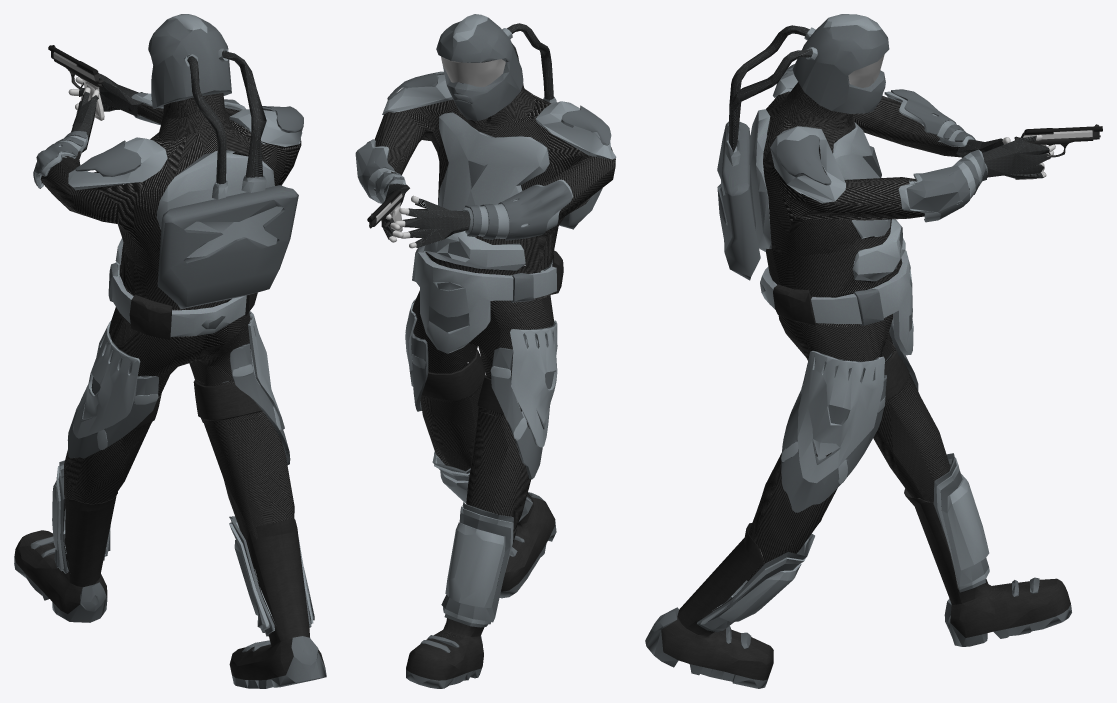
3 views of the same model, side by side, from view 1: azimuth 30°, elevation 25°; view 2: azimuth 150°, elevation 25°; view 3: azimuth 270°, elevation 25° (orthographic). The views are drawn at different scales.
Visible parts, largest first — view 1: personajeskefix:personaje:extrudedSurface2 polySurface72, personajeskefix:personaje:bota1 polySurface72, personajeskefix:personaje:PANTALON polySurface72, personajeskefix:personaje:CAMISETABUENA polySurface72, personajeskefix:personaje:pPipe4 polySurface72, personajeskefix:personaje:pCube4 polySurface72, personajeskefix:personaje:cosoarmdaurapierna1 polySurface72, personajeskefix:personaje:cinturon polySurface72, personajeskefix:personaje:polySurface6 polySurface72, personajeskefix:personaje:armadbota1 polySurface72, personajeskefix:personaje:cosoarmadurapierna2 polySurface72, personajeskefix:personaje:polySurface11 polySurface72 (+5 smaller); view 2: personajeskefix:personaje:pPipe4 polySurface72, personajeskefix:personaje:PANTALON polySurface72, personajeskefix:personaje:CAMISETABUENA polySurface72, personajeskefix:personaje:cinturon polySurface72, personajeskefix:personaje:bota1 polySurface72, personajeskefix:personaje:extrudedSurface2 polySurface72, personajeskefix:personaje:pCube4 polySurface72, personajeskefix:personaje:armadbota1 polySurface72, personajeskefix:personaje:cosoarmdaurapierna1 polySurface72, personajeskefix:personaje:polySurface2 polySurface72, personajeskefix:personaje:polySurface6 polySurface72, personajeskefix:personaje:gafas polySurface72 (+8 smaller); view 3: personajeskefix:personaje:CAMISETABUENA polySurface72, personajeskefix:personaje:bota1 polySurface72, personajeskefix:personaje:pPipe4 polySurface72, personajeskefix:personaje:PANTALON polySurface72, personajeskefix:personaje:extrudedSurface2 polySurface72, personajeskefix:personaje:pCube4 polySurface72, personajeskefix:personaje:cinturon polySurface72, personajeskefix:personaje:armadbota1 polySurface72, personajeskefix:personaje:cosoarmadurapierna2 polySurface72, personajeskefix:personaje:hombro1 polySurface72, personajeskefix:personaje:polySurface2 polySurface72, pistola:Cylinder001 polySurface72 (+4 smaller).
Boxes of the visible parts, x1=… form: personajeskefix:personaje:extrudedSurface2 polySurface72: x1=148, y1=14, x2=298, y2=309; personajeskefix:personaje:bota1 polySurface72: x1=14, y1=492, x2=326, y2=688; personajeskefix:personaje:PANTALON polySurface72: x1=64, y1=284, x2=294, y2=568; personajeskefix:personaje:CAMISETABUENA polySurface72: x1=40, y1=93, x2=301, y2=337; personajeskefix:personaje:pPipe4 polySurface72: x1=62, y1=73, x2=302, y2=264; personajeskefix:personaje:pCube4 polySurface72: x1=54, y1=311, x2=314, y2=636; personajeskefix:personaje:cosoarmdaurapierna1 polySurface72: x1=72, y1=321, x2=158, y2=449; personajeskefix:personaje:cinturon polySurface72: x1=108, y1=261, x2=257, y2=339; personajeskefix:personaje:polySurface6 polySurface72: x1=135, y1=379, x2=262, y2=427; personajeskefix:personaje:armadbota1 polySurface72: x1=52, y1=465, x2=313, y2=632; personajeskefix:personaje:cosoarmadurapierna2 polySurface72: x1=223, y1=343, x2=290, y2=465; personajeskefix:personaje:polySurface11 polySurface72: x1=187, y1=56, x2=226, y2=184; personajeskefix:personaje:pPipe4 polySurface72: x1=355, y1=74, x2=616, y2=270; personajeskefix:personaje:PANTALON polySurface72: x1=412, y1=266, x2=553, y2=531; personajeskefix:personaje:CAMISETABUENA polySurface72: x1=374, y1=61, x2=615, y2=301; personajeskefix:personaje:cinturon polySurface72: x1=412, y1=243, x2=563, y2=353; personajeskefix:personaje:bota1 polySurface72: x1=406, y1=492, x2=556, y2=688; personajeskefix:personaje:extrudedSurface2 polySurface72: x1=436, y1=14, x2=602, y2=229; personajeskefix:personaje:pCube4 polySurface72: x1=405, y1=299, x2=554, y2=627; personajeskefix:personaje:armadbota1 polySurface72: x1=434, y1=452, x2=532, y2=624; personajeskefix:personaje:cosoarmdaurapierna1 polySurface72: x1=490, y1=320, x2=557, y2=447; personajeskefix:personaje:polySurface2 polySurface72: x1=465, y1=181, x2=572, y2=240; personajeskefix:personaje:polySurface6 polySurface72: x1=422, y1=349, x2=503, y2=413; personajeskefix:personaje:gafas polySurface72: x1=441, y1=56, x2=505, y2=86; personajeskefix:personaje:CAMISETABUENA polySurface72: x1=763, y1=82, x2=969, y2=326; personajeskefix:personaje:bota1 polySurface72: x1=645, y1=488, x2=1071, y2=688; personajeskefix:personaje:pPipe4 polySurface72: x1=749, y1=70, x2=1050, y2=281; personajeskefix:personaje:PANTALON polySurface72: x1=747, y1=271, x2=950, y2=580; personajeskefix:personaje:extrudedSurface2 polySurface72: x1=717, y1=14, x2=889, y2=280; personajeskefix:personaje:pCube4 polySurface72: x1=697, y1=321, x2=988, y2=632; personajeskefix:personaje:cinturon polySurface72: x1=760, y1=249, x2=913, y2=355; personajeskefix:personaje:armadbota1 polySurface72: x1=700, y1=457, x2=989, y2=630; personajeskefix:personaje:cosoarmadurapierna2 polySurface72: x1=781, y1=358, x2=886, y2=512; personajeskefix:personaje:hombro1 polySurface72: x1=776, y1=135, x2=831, y2=185; personajeskefix:personaje:polySurface2 polySurface72: x1=891, y1=89, x2=975, y2=141; pistola:Cylinder001 polySurface72: x1=1014, y1=124, x2=1102, y2=179.
Size of the model in its own units: 3.65 by 9.43 by 5.96.
